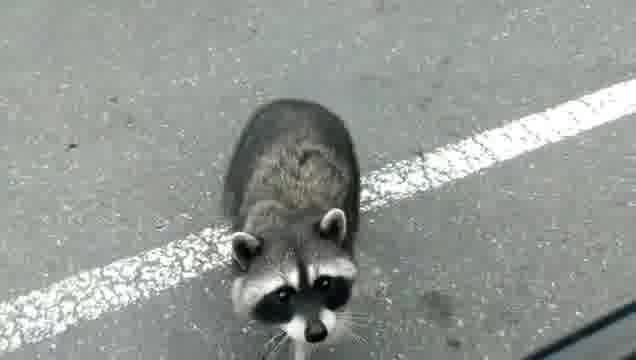raccoon: (220, 98, 370, 360)
